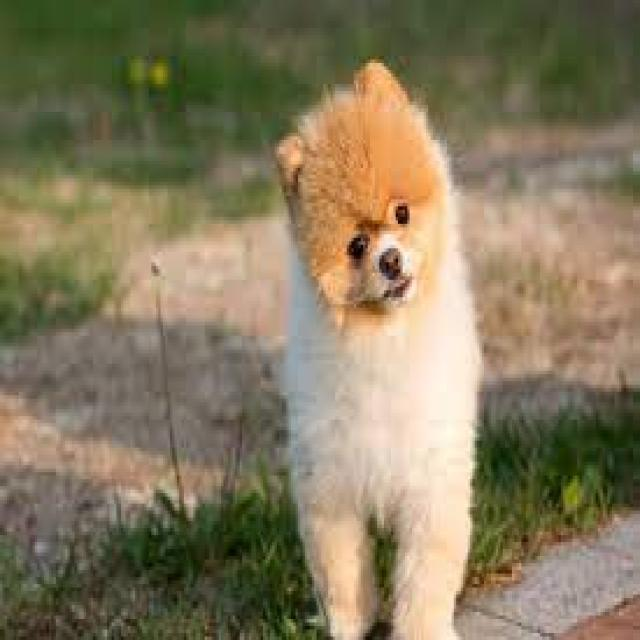dog: (237, 31, 512, 640)
